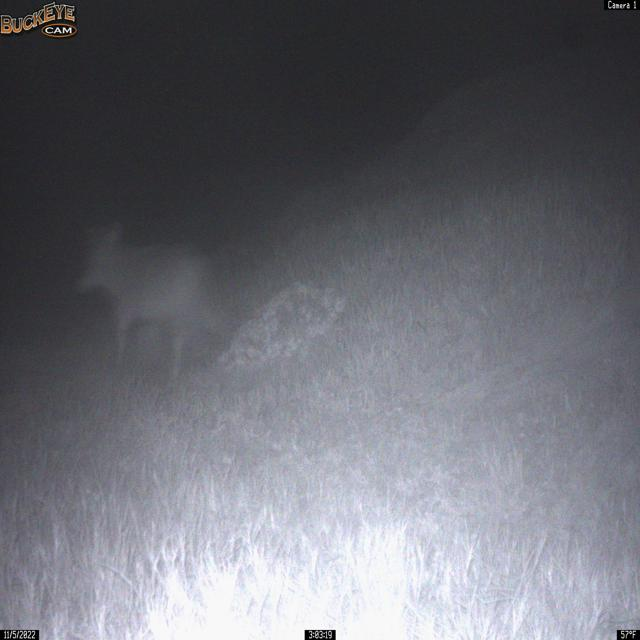coyote: (73, 220, 232, 385)
